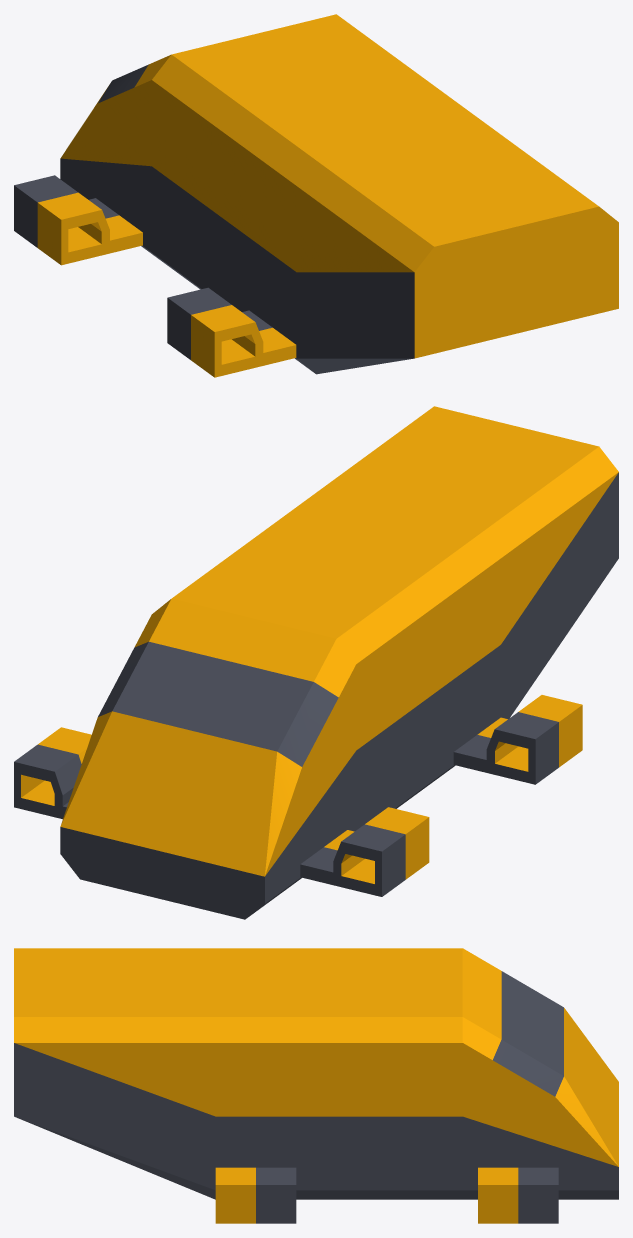
File: HoverCar_01.fbx
The picture shows the model from 3 angles, top to bottom: view 1: azimuth 30°, elevation 25°; view 2: azimuth 150°, elevation 25°; view 3: azimuth 270°, elevation 25°; orthographic projection. The views are drawn at different scales.
Parts seen in each view (by area): view 1: plane_end_32, plane_body_42, plane_cockpitBlock%_29, wing_intake_52, wing_intake_51; view 2: plane_cockpitBlock%_29, plane_body_42, plane_end_32, wing_intake_51, wing_intake_52, wing_intake_44; view 3: plane_body_42, plane_end_32, plane_cockpitBlock%_29, wing_intake_50, wing_intake_44.
Boxes of the visible parts, x1,y1,x2,y2 form: plane_end_32: (296, 120, 618, 374); plane_body_42: (178, 34, 480, 371); plane_cockpitBlock%_29: (60, 14, 362, 285); wing_intake_52: (167, 287, 296, 377); wing_intake_51: (14, 175, 142, 265); plane_cockpitBlock%_29: (60, 579, 382, 919); plane_body_42: (198, 492, 500, 810); plane_end_32: (316, 406, 618, 718); wing_intake_51: (300, 807, 429, 896); wing_intake_52: (453, 695, 582, 784); wing_intake_44: (14, 727, 91, 819); plane_body_42: (215, 948, 417, 1199); plane_end_32: (14, 948, 215, 1199); plane_cockpitBlock%_29: (417, 948, 618, 1199); wing_intake_50: (215, 1167, 296, 1223); wing_intake_44: (478, 1167, 558, 1223).
Bounding box in the file's own units: 18 × 10 × 30.
